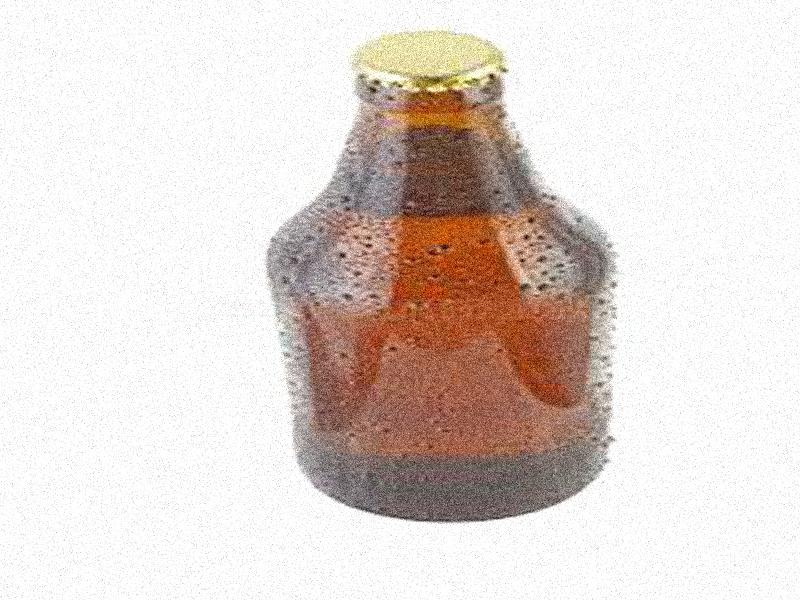Beer: (292, 31, 607, 519)
